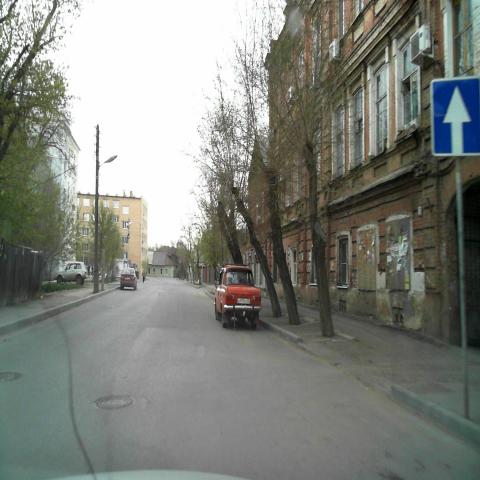5_5: (430, 76, 480, 155)
